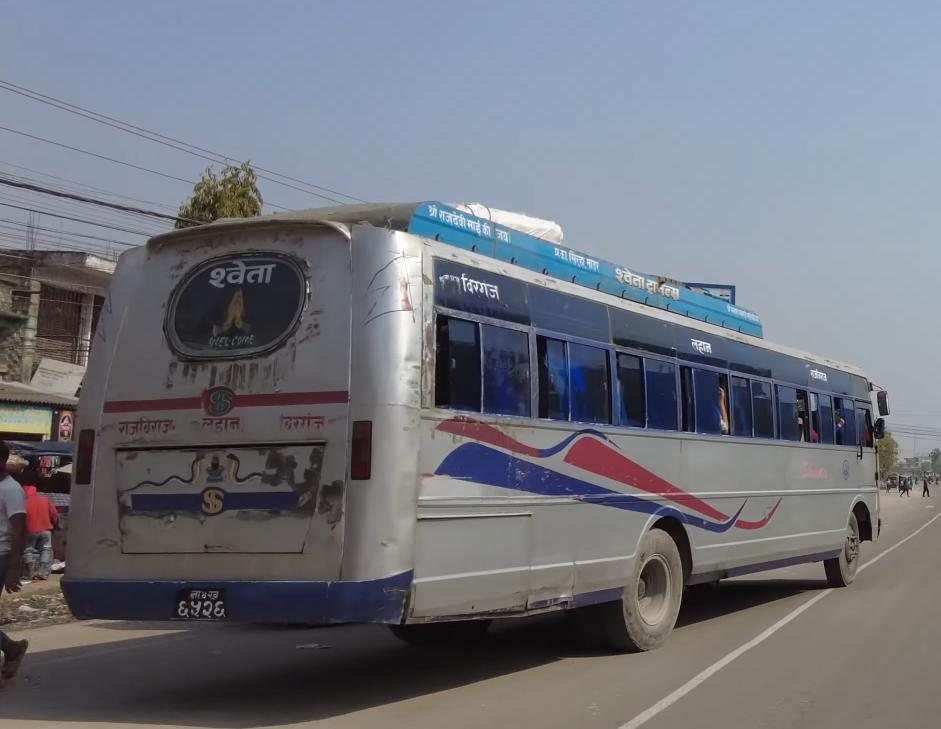bus: (56, 194, 904, 653)
